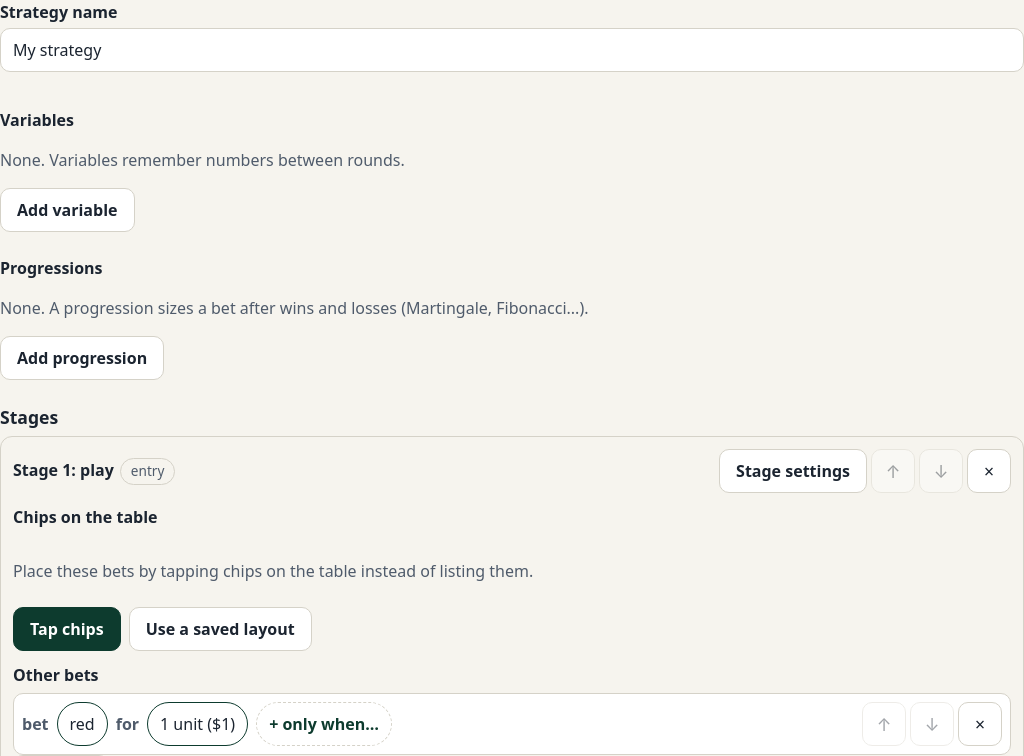
ChipsPanel: starting points › cancelling the editor after "Tap chips" puts the stage back exactly as it was
Click the button "Tap chips" at (67, 629), box [13,607,121,651]
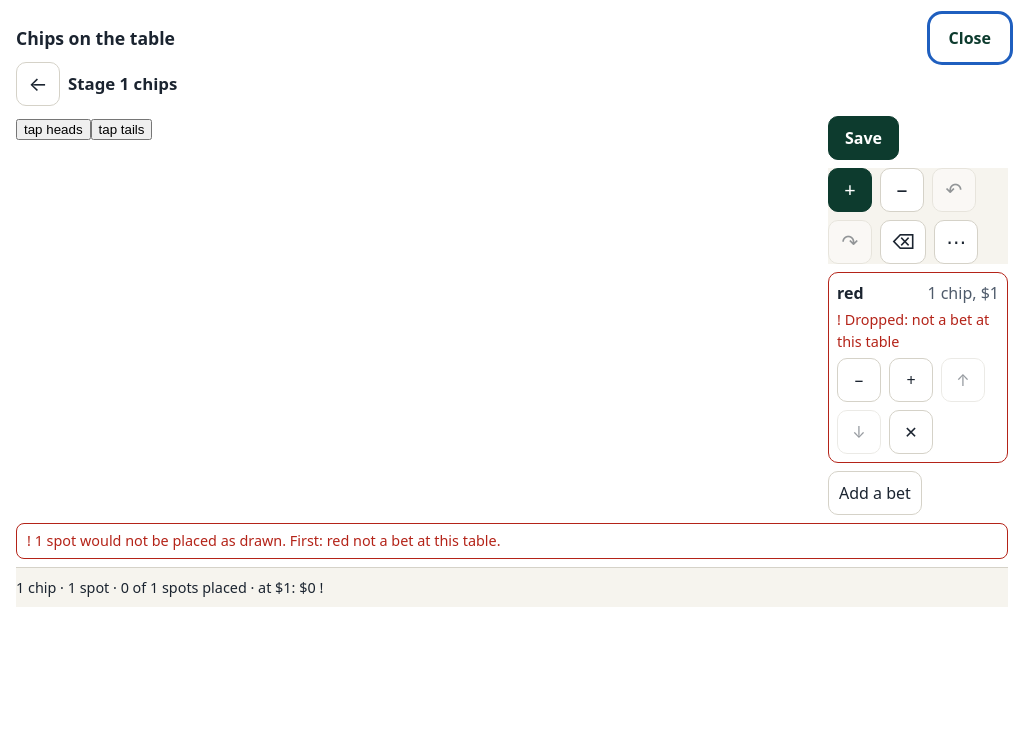
Click the button named "Back" at (38, 84), box [16,62,60,106]
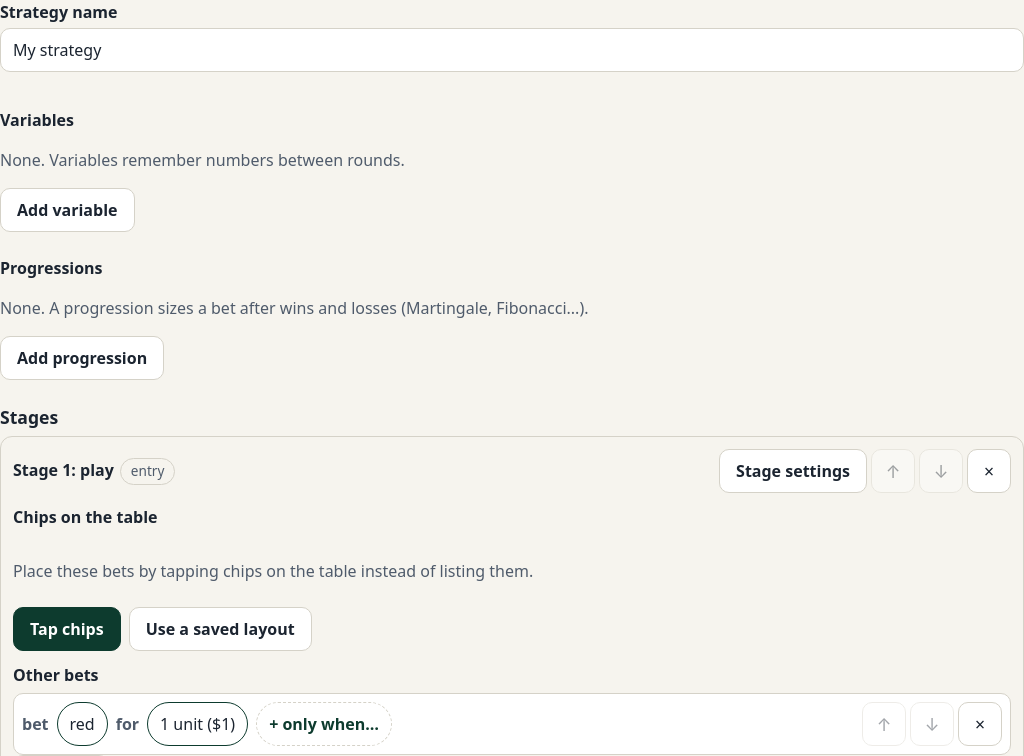
Expected: the button "Tap chips" is shown, [13,607,121,651]
